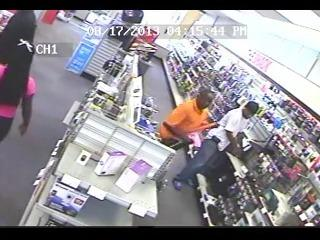Normal: (1, 40, 64, 156), (214, 97, 263, 165)
shoplifting: (166, 82, 219, 181)
